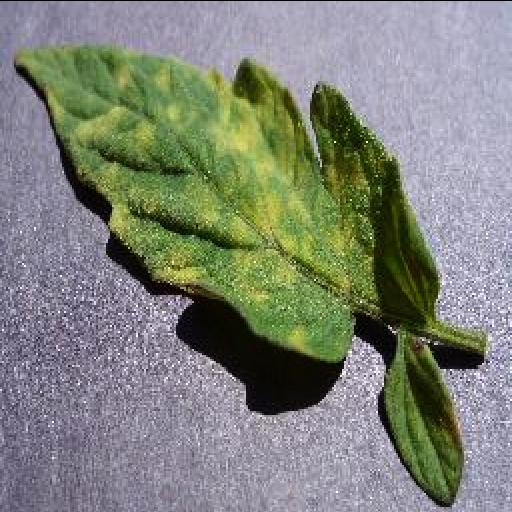disease_tomato: (16, 45, 442, 365)
